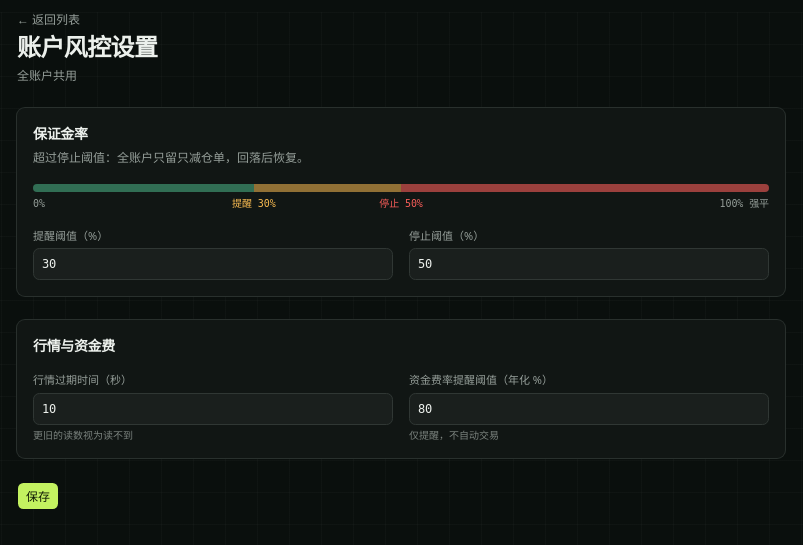
账户风控设置 › 服务端说设置不合理时原样显示原因
Clear the field showing "30" at (213, 264), box [33,248,393,280]
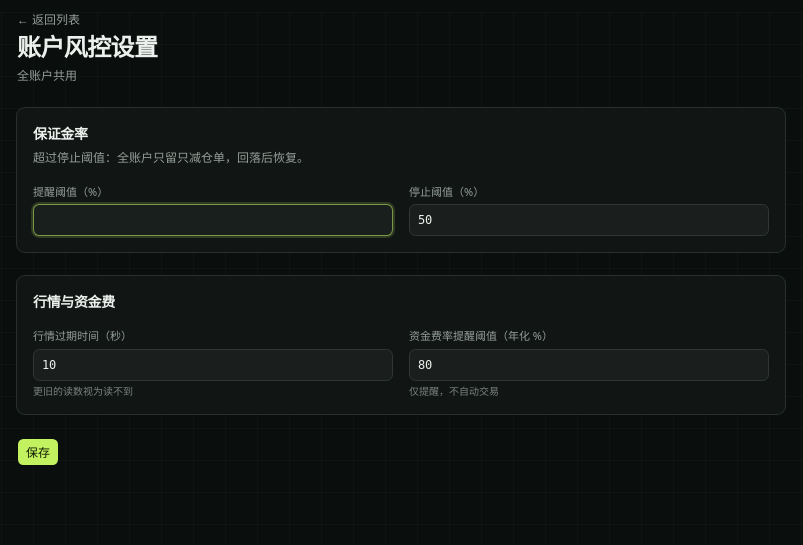
Type "60" into the field showing "30" at (213, 220), box [33,204,393,236]
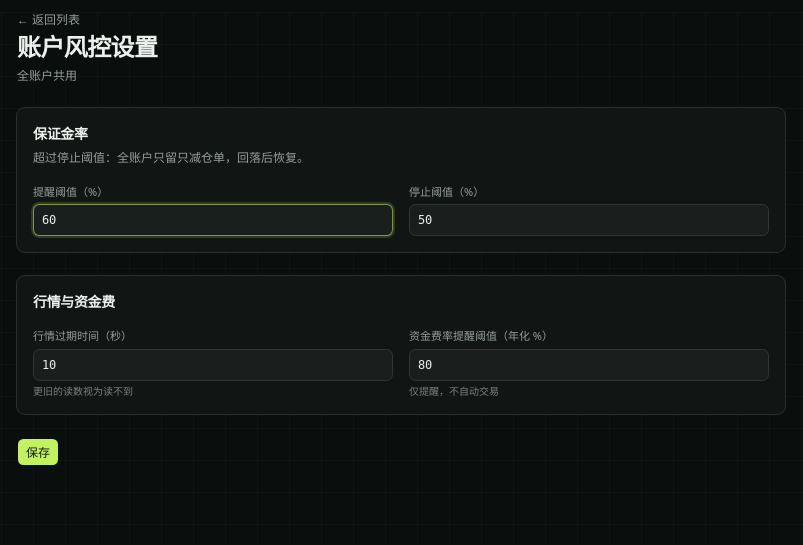
Click the button "保存" at (38, 452), box [17,438,59,466]
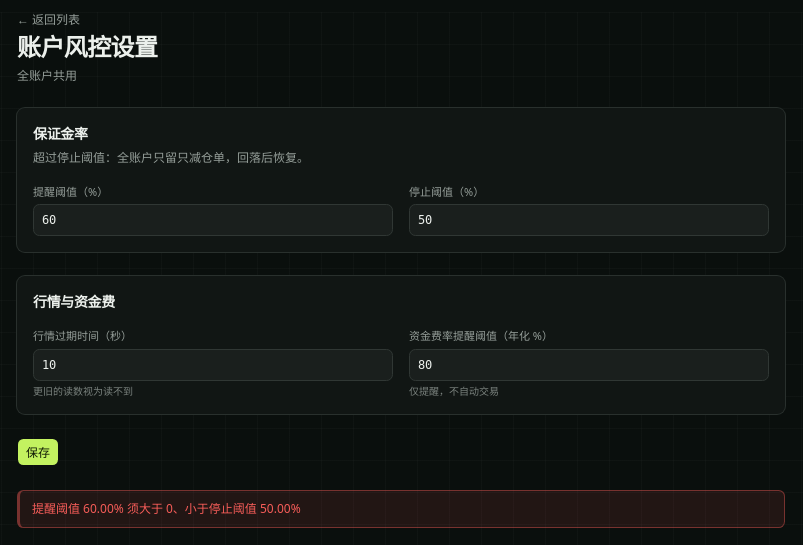
Check: the text "提醒阈值 60.00% 须大于 0、小于停止阈值 50.00%" is shown, box [32,500,301,517]
